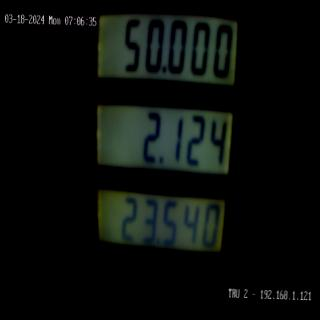screen: (86, 0, 246, 291)
